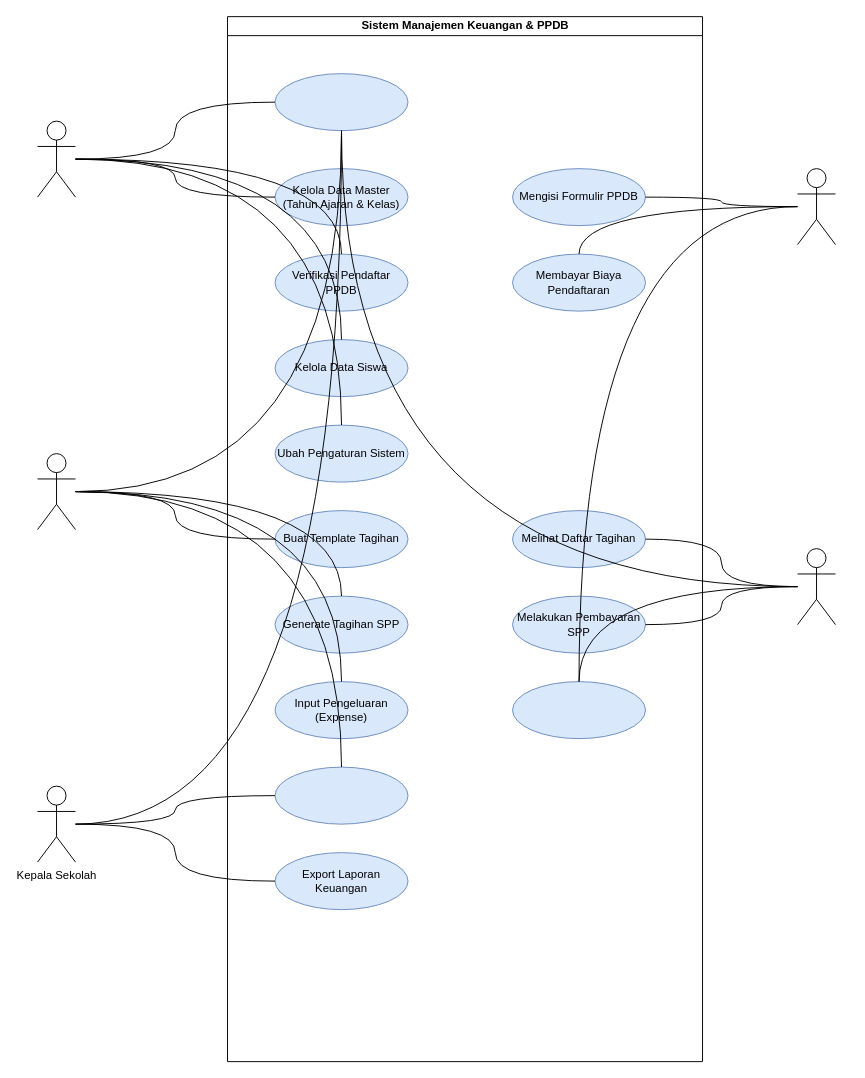
This 865x1078 diagram has some shape labels left out. Each missing label, with the centre of its shape:
"Admin" goes at (56,158).
"Bendahara" goes at (56,491).
"Calon Siswa" goes at (816,206).
"Lihat Riwayat Buku Besar" goes at (341,795).
"Login Authentication" goes at (341,102).
"Melihat Notifikasi" goes at (579,710).
"Siswa" goes at (816,586).
